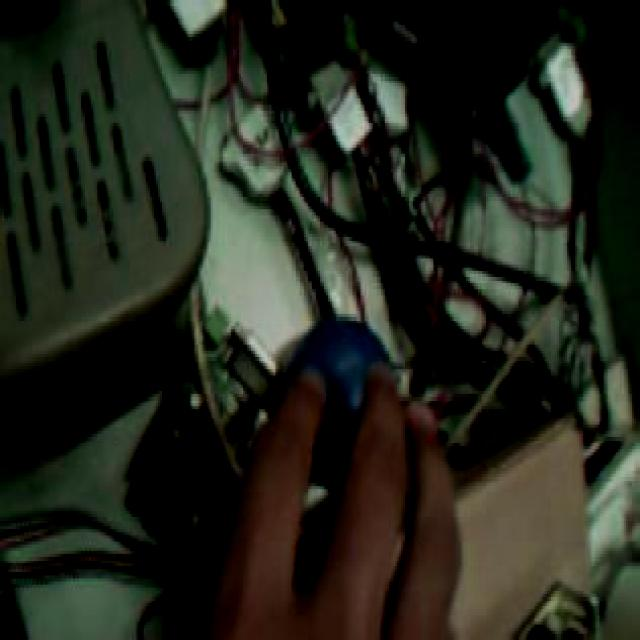BallPurple: (284, 318, 396, 452)
